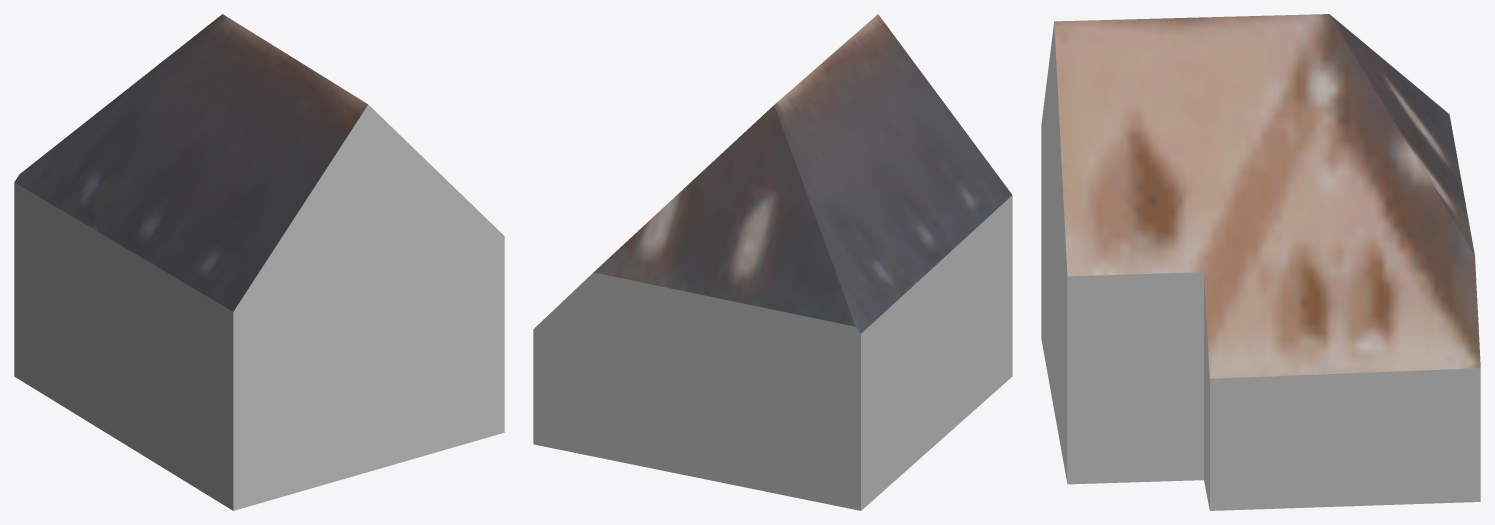
File: DEBW_0010007Txdt.gltf
3 views of the same model, side by side, from view 1: azimuth 30°, elevation 25°; view 2: azimuth 150°, elevation 25°; view 3: azimuth 270°, elevation 25° (orthographic). The views are drawn at different scales.
Parts seen in each view (by area): view 1: Z_UP; view 2: Z_UP; view 3: Z_UP.
Part boxes in pixels (bbox=[...]): Z_UP: bbox=[14, 14, 504, 510]; Z_UP: bbox=[533, 14, 1012, 510]; Z_UP: bbox=[1041, 14, 1480, 510].
Size of the model in its own units: 12.8 by 12.43 by 12.72.
Materials: 2 (1 with a texture image).
